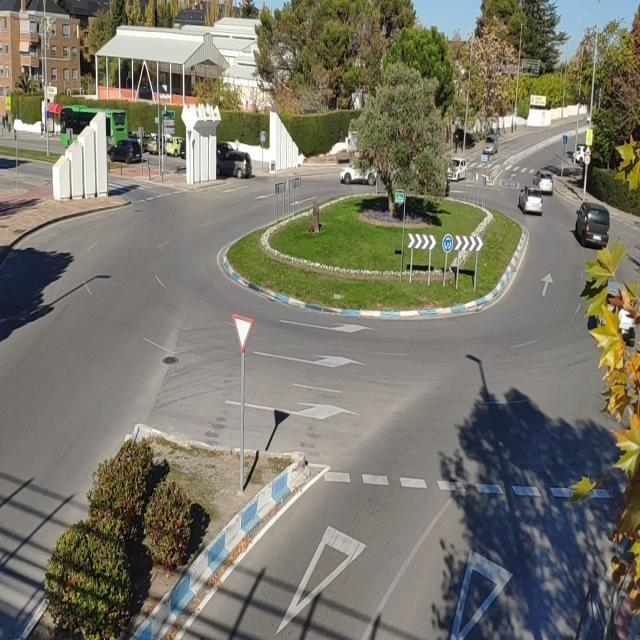Bus: (56, 104, 128, 152)
Car: (590, 279, 635, 346), (340, 158, 378, 186), (218, 148, 252, 178), (110, 140, 144, 164), (517, 186, 544, 214), (447, 156, 468, 183), (532, 172, 555, 196), (164, 136, 185, 158), (483, 134, 498, 156), (147, 134, 160, 154), (574, 146, 585, 166)
Van: (574, 203, 610, 248)
